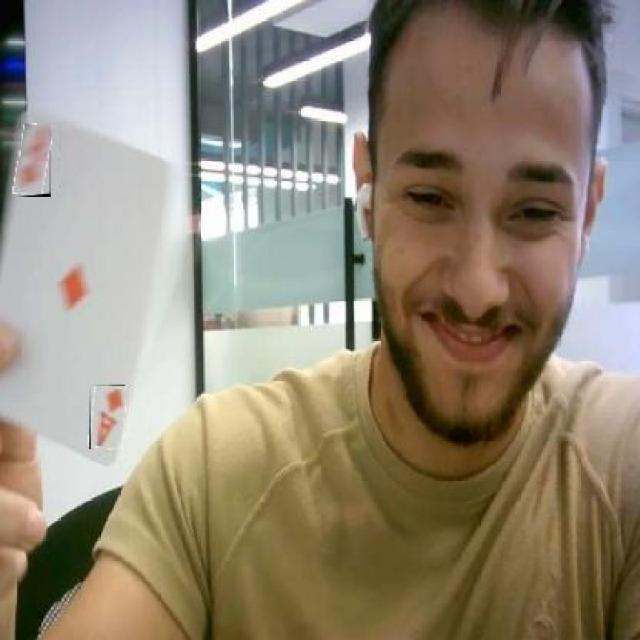AD: (15, 125, 51, 197), (89, 385, 125, 449)
